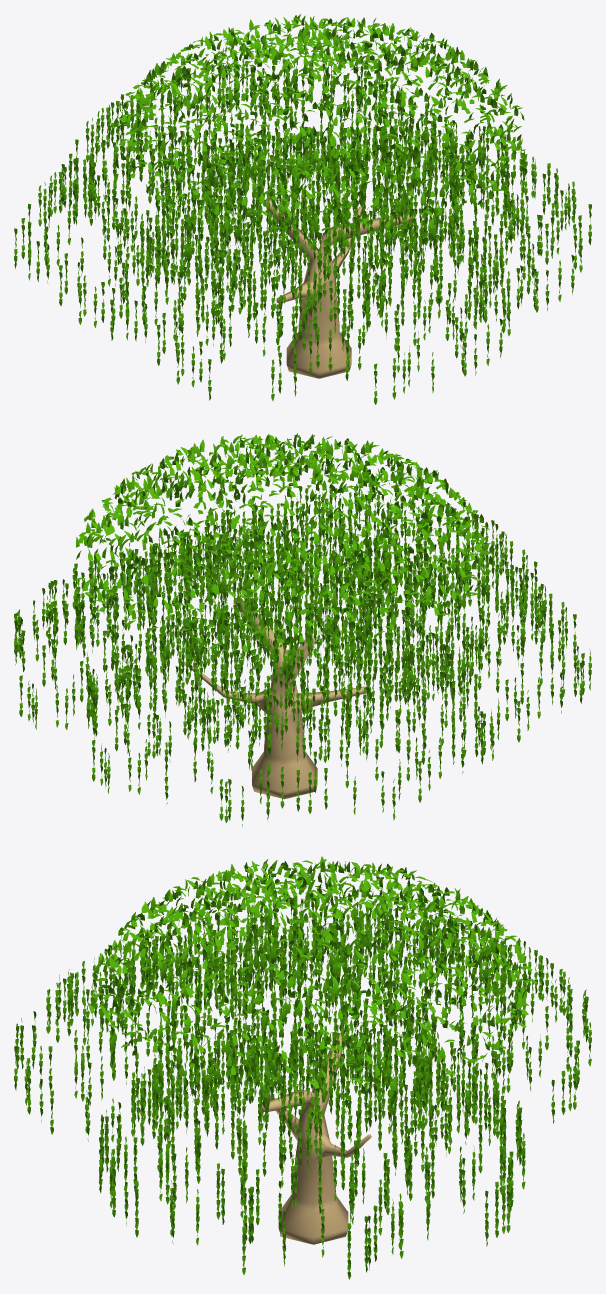
File: MoretonBayFig.glb
The picture shows the model from 3 angles, top to bottom: view 1: azimuth 30°, elevation 25°; view 2: azimuth 150°, elevation 25°; view 3: azimuth 270°, elevation 25°; orthographic projection. The views are drawn at different scales.
Parts seen in each view (by area): view 1: LeafCloud (×2), LeafCloud_copy7, LeafCloud_copy5, LeafCloud_copy6, LeafCloud_copy8, LeafCloud_copy4, Trunk; view 2: LeafCloud (×2), LeafCloud_copy6, LeafCloud_copy5, LeafCloud_copy8, LeafCloud_copy7, LeafCloud_copy4, Trunk; view 3: LeafCloud (×2), LeafCloud_copy4, LeafCloud_copy7, LeafCloud_copy6, LeafCloud_copy8, LeafCloud_copy5, Trunk.
Part boxes in pixels (bbox=[...]): LeafCloud (×2): bbox=[111, 14, 524, 404]; LeafCloud_copy7: bbox=[132, 126, 540, 351]; LeafCloud_copy5: bbox=[14, 120, 421, 345]; LeafCloud_copy6: bbox=[61, 56, 469, 280]; LeafCloud_copy8: bbox=[115, 34, 525, 231]; LeafCloud_copy4: bbox=[183, 116, 591, 340]; Trunk: bbox=[265, 199, 414, 378]; LeafCloud (×2): bbox=[76, 433, 493, 827]; LeafCloud_copy6: bbox=[74, 517, 480, 747]; LeafCloud_copy5: bbox=[185, 537, 591, 766]; LeafCloud_copy8: bbox=[75, 453, 493, 656]; LeafCloud_copy7: bbox=[146, 484, 552, 713]; LeafCloud_copy4: bbox=[14, 533, 420, 762]; Trunk: bbox=[188, 598, 366, 799]; LeafCloud (×2): bbox=[94, 856, 536, 1279]; LeafCloud_copy4: bbox=[99, 1021, 525, 1267]; LeafCloud_copy7: bbox=[14, 930, 440, 1176]; LeafCloud_copy6: bbox=[165, 910, 591, 1156]; LeafCloud_copy8: bbox=[88, 878, 531, 1093]; LeafCloud_copy5: bbox=[98, 895, 525, 1139]; Trunk: bbox=[260, 1032, 371, 1244].
Size of the model in its own units: 32.16 by 19.02 by 29.28.
